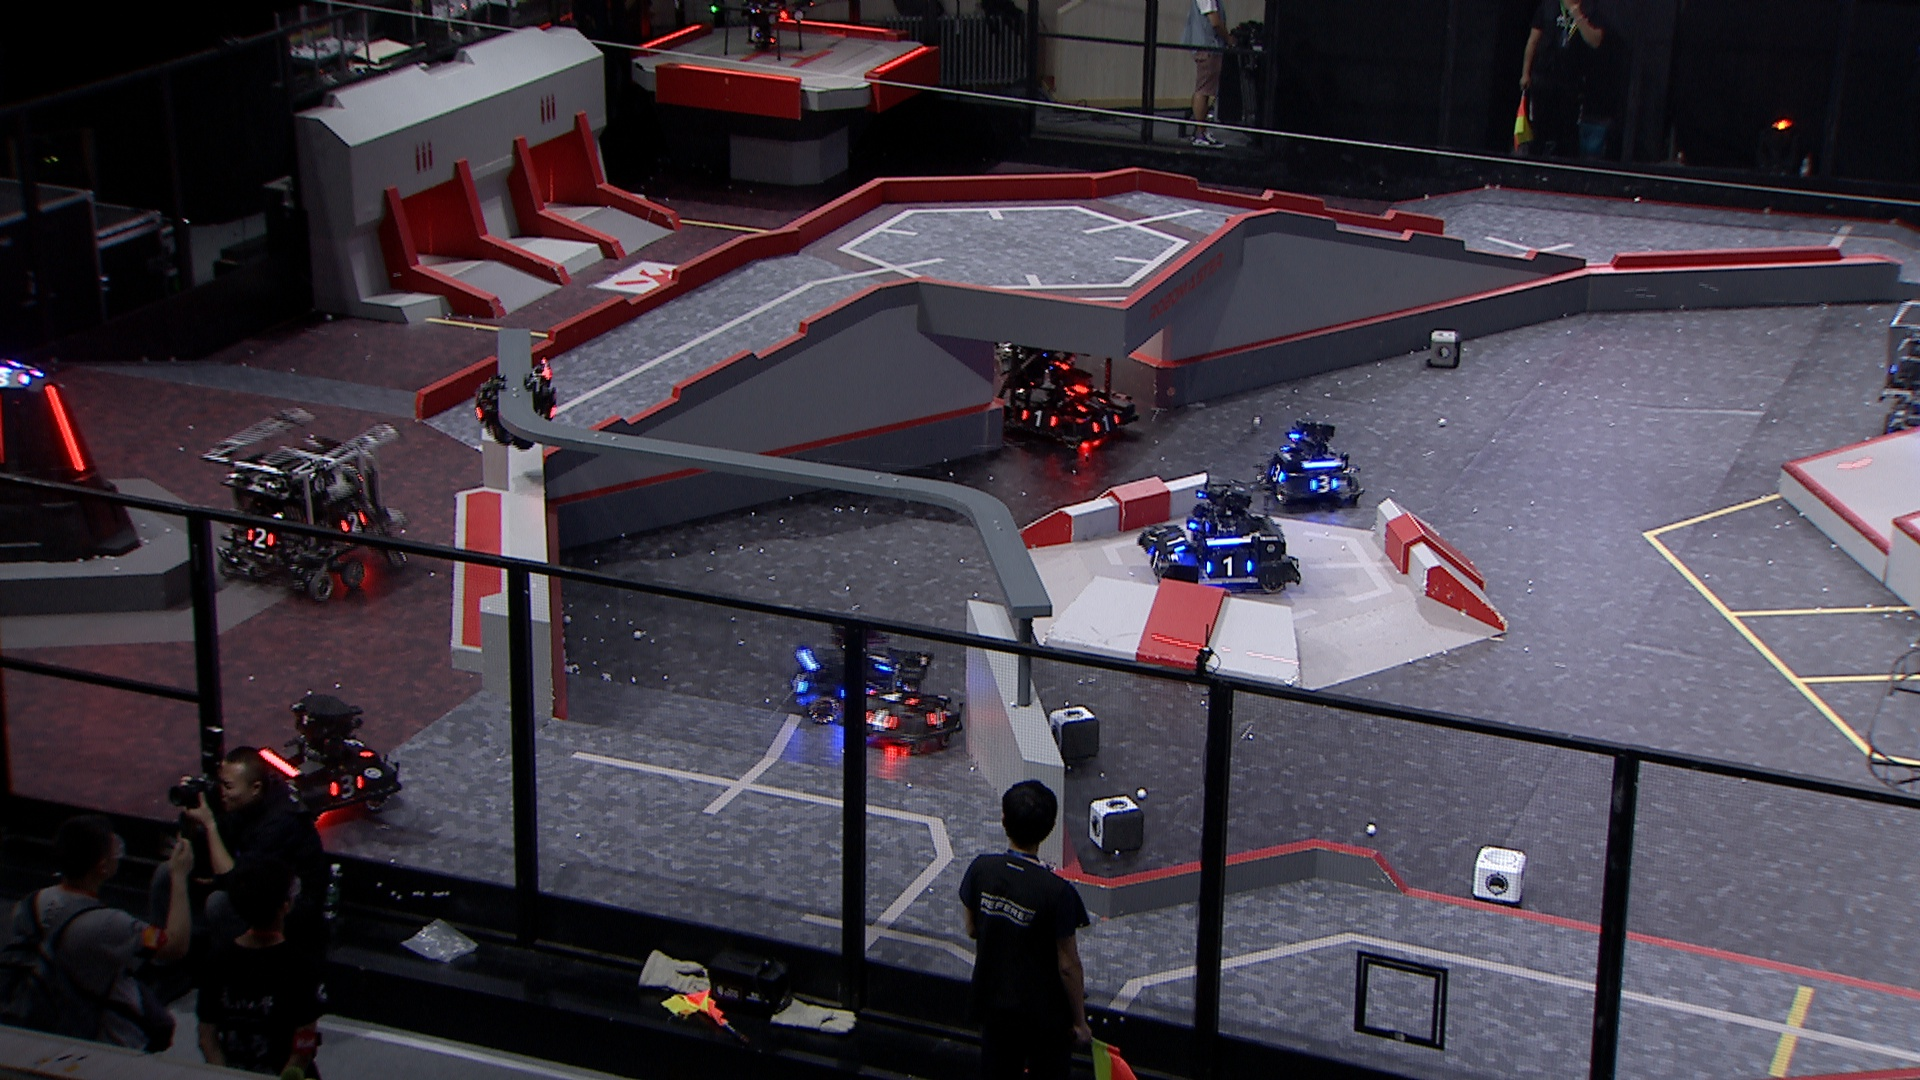armor: (44, 384, 92, 473), (1203, 556, 1254, 582), (327, 774, 367, 804), (243, 527, 280, 553), (864, 708, 901, 732), (868, 688, 918, 705), (343, 735, 375, 761), (338, 510, 371, 535), (1087, 413, 1125, 434), (1021, 409, 1059, 429), (866, 647, 894, 670), (1309, 473, 1338, 495), (1073, 396, 1110, 411), (790, 669, 811, 695), (924, 707, 949, 728), (1267, 462, 1288, 487), (1145, 546, 1167, 568), (1166, 534, 1185, 553)
car: (202, 405, 407, 604), (992, 309, 1139, 458), (1130, 477, 1300, 595), (252, 694, 404, 822), (785, 618, 906, 723), (851, 647, 965, 754), (1255, 415, 1367, 508), (1879, 297, 1920, 440)
watcher: (472, 356, 558, 451)
